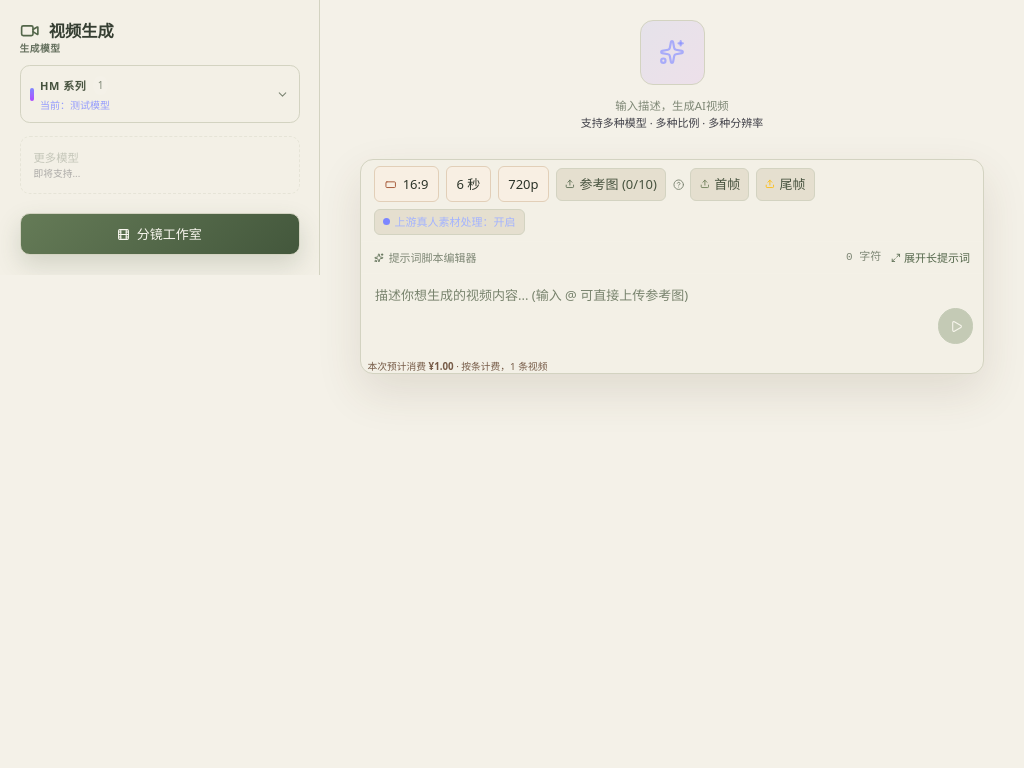
live submission updates remove the cancel button and a refused cancellation never aborts progress
In the text box with placeholder "描述你想生成的视频内容... (输入 @ 可直接上传参考图)": (672, 313) [361,274,983,352], type "live original task"
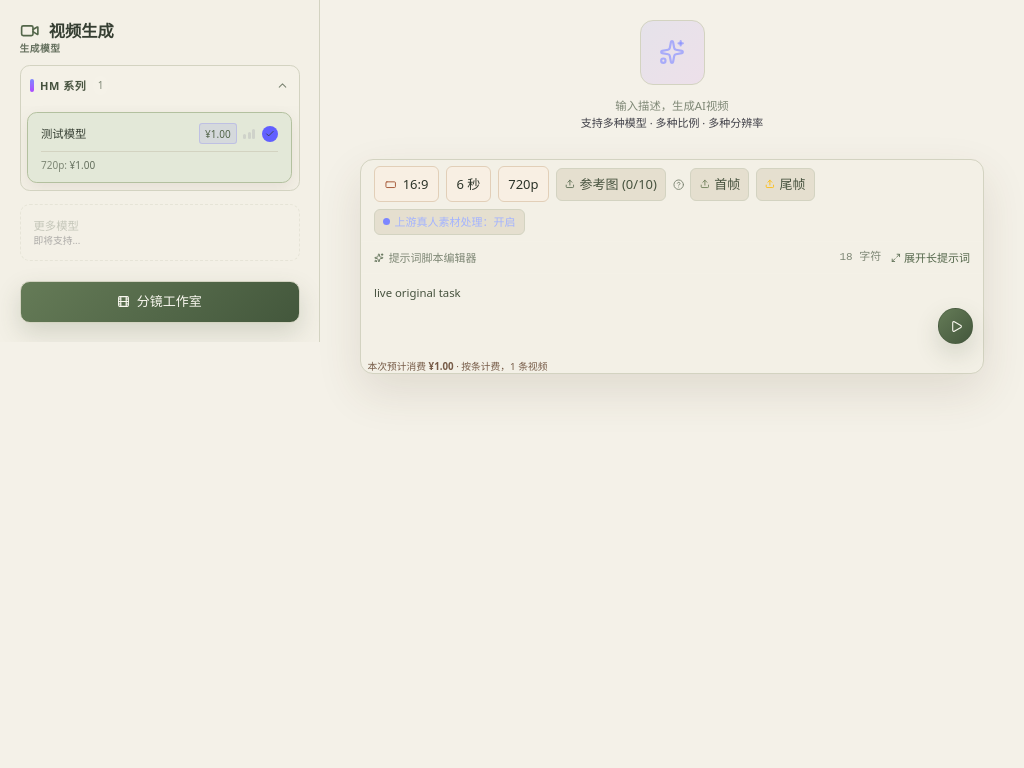
Expected: the button named "开始生成视频" is enabled
Click the button named "开始生成视频": (955, 326) [938,308,973,344]
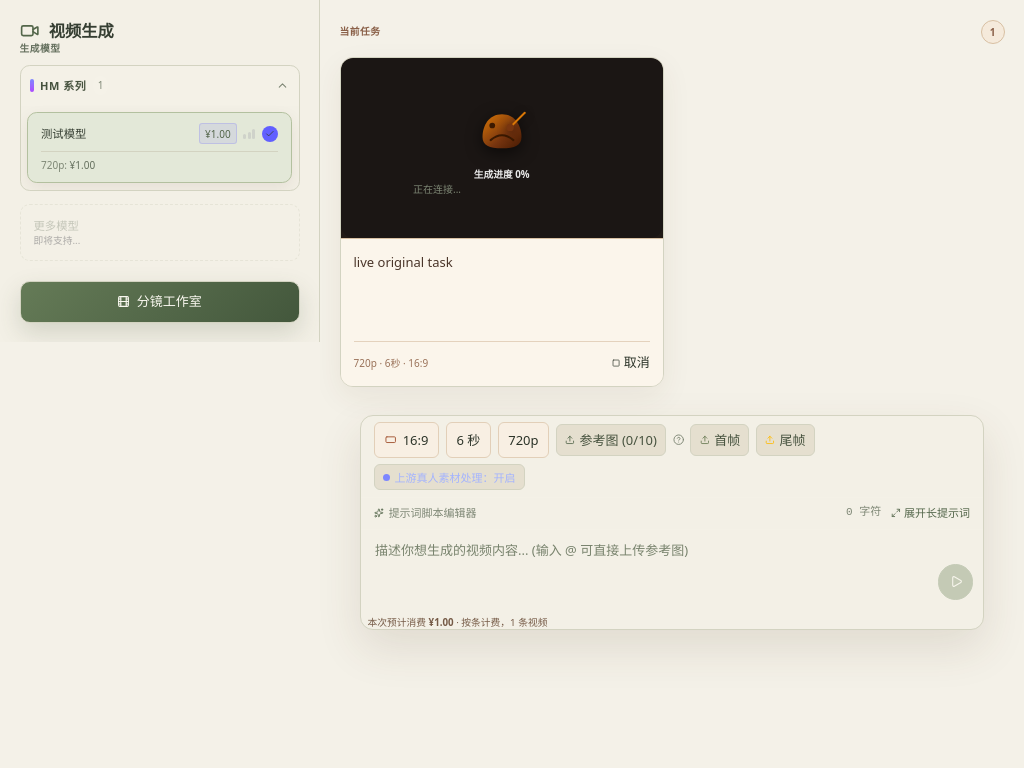
Click the button "取消": (631, 363) [612,352,650,373]
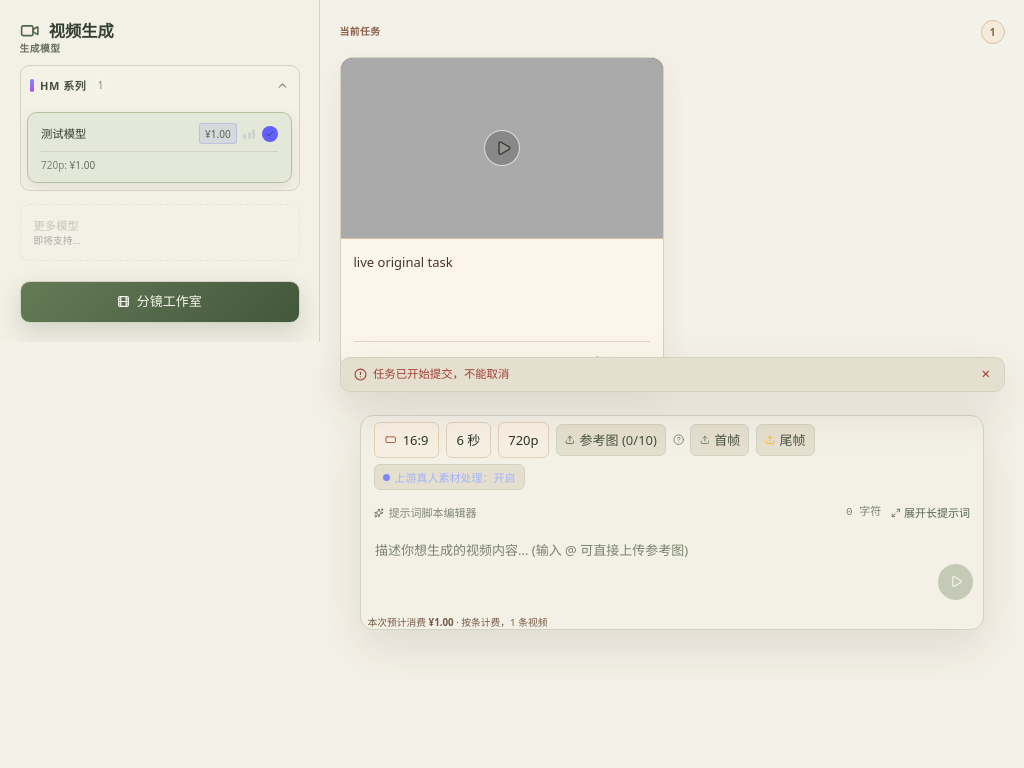
Expected: the text "live original task" is shown, [354,253,453,271]
Expected: the text "任务已开始提交，不能取消" is shown, [373,366,509,381]
